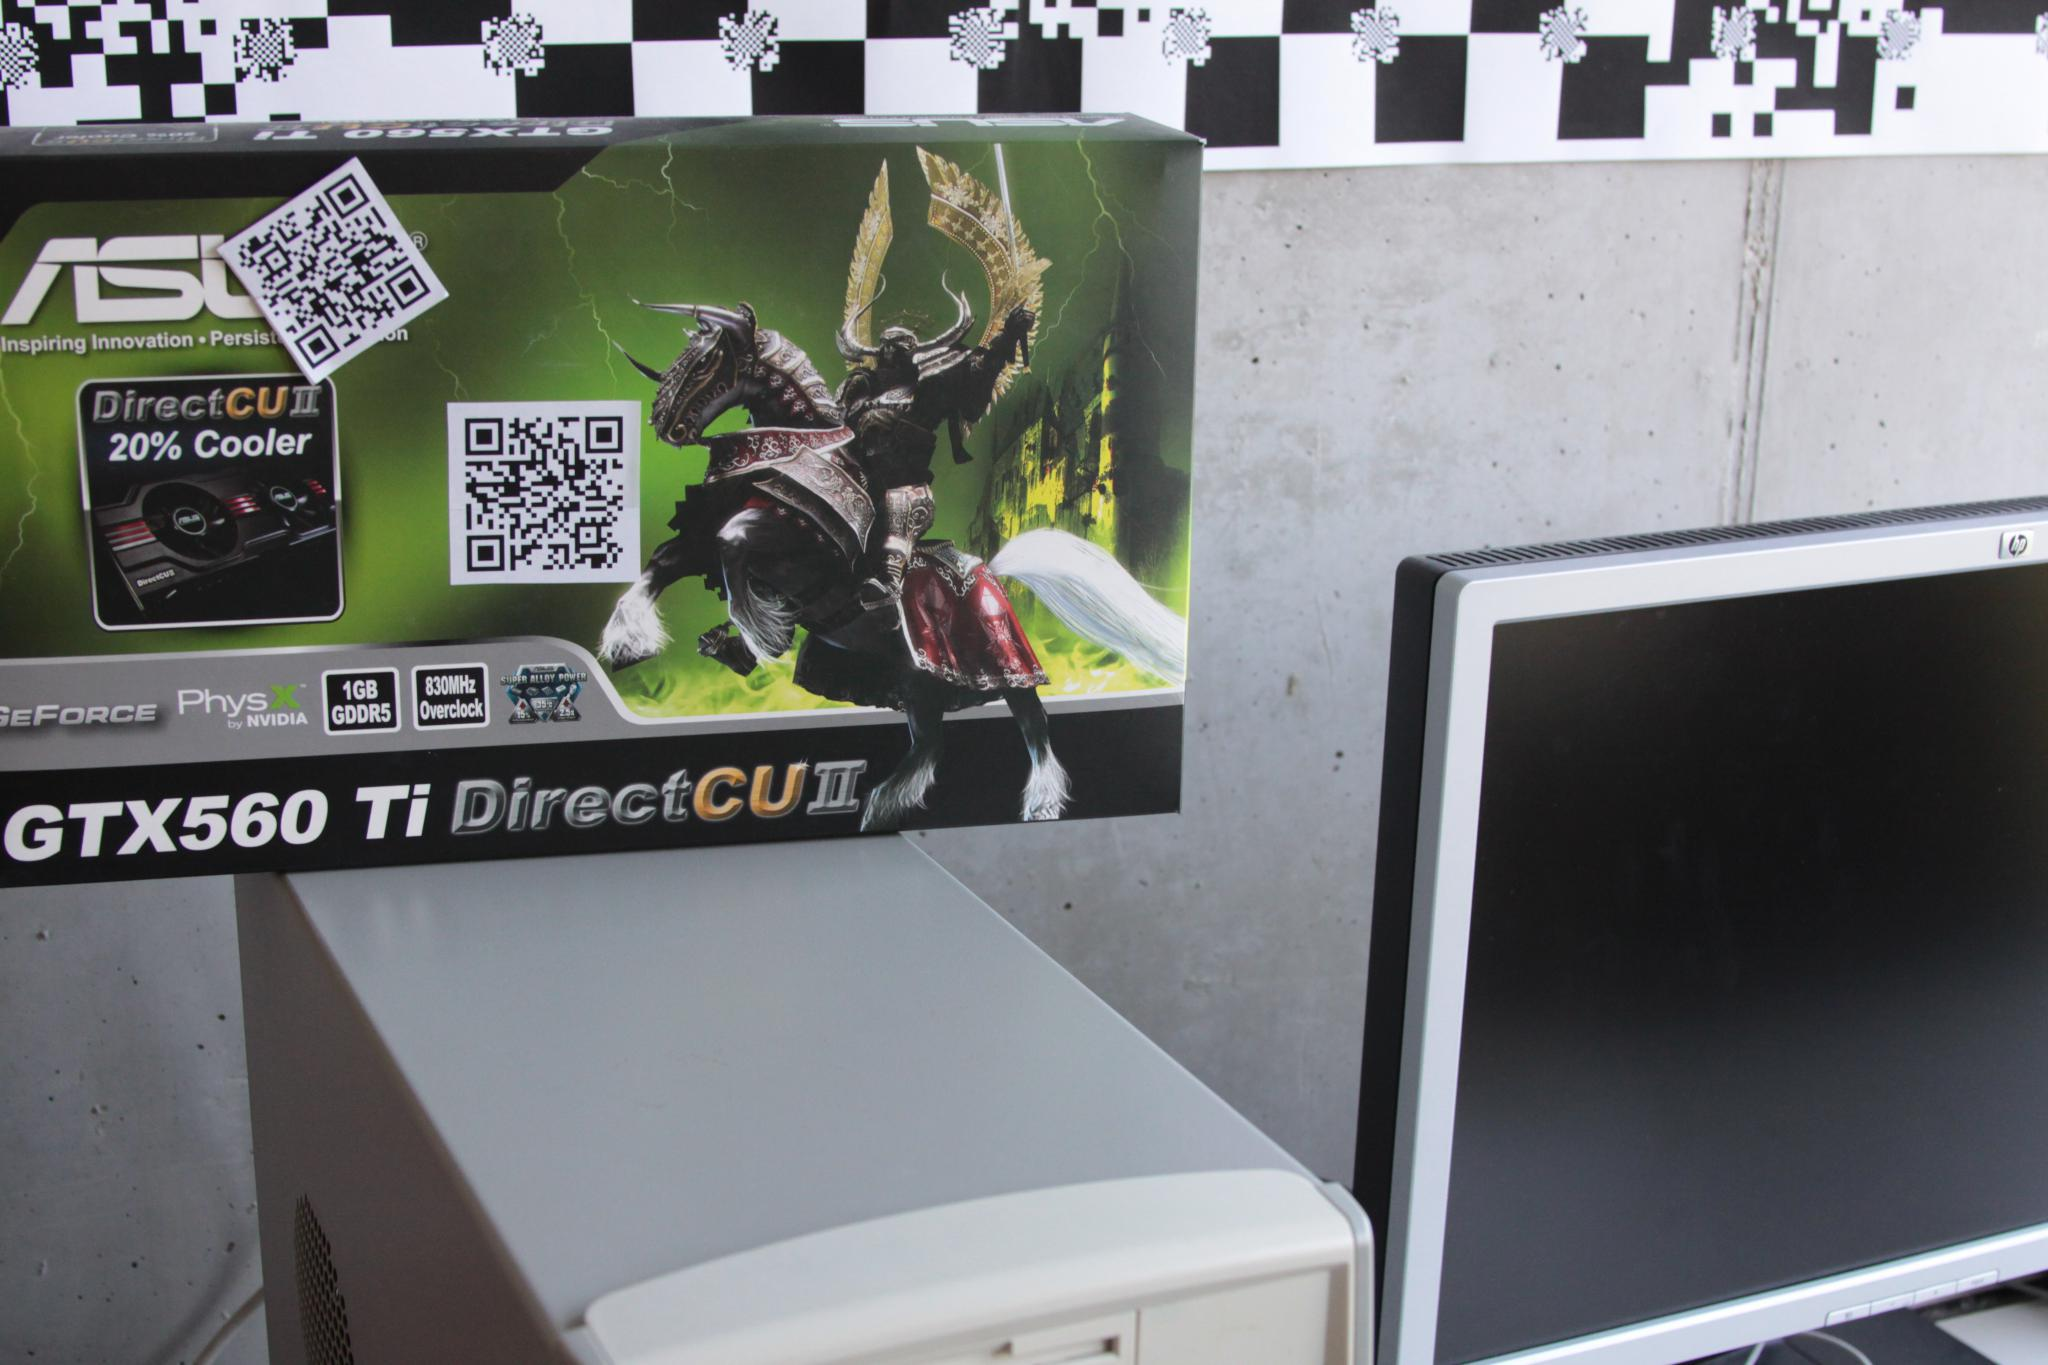Finder pattern: (460, 523, 519, 585), (454, 405, 513, 465), (376, 256, 432, 314), (582, 407, 632, 465), (321, 174, 372, 224), (295, 326, 337, 372)
